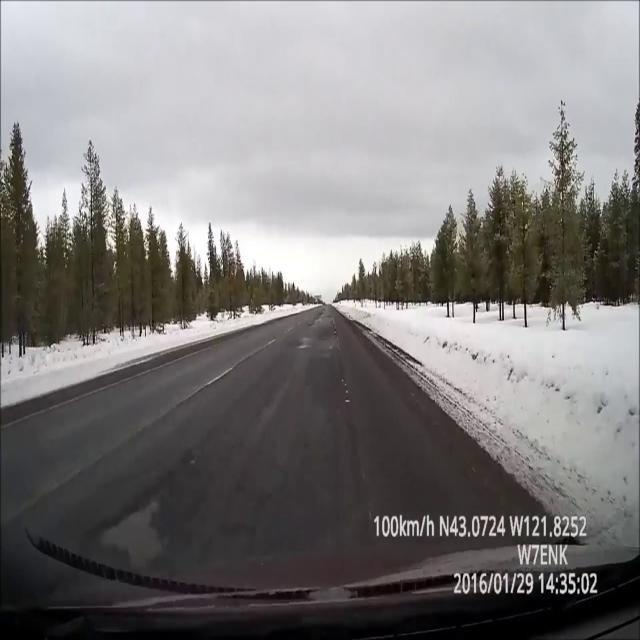pothole: (91, 470, 187, 580), (304, 309, 328, 342)
